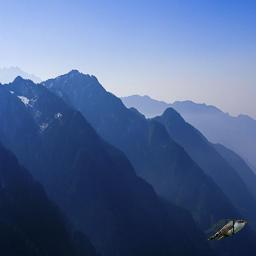Cuckoo: (204, 219, 247, 241)
